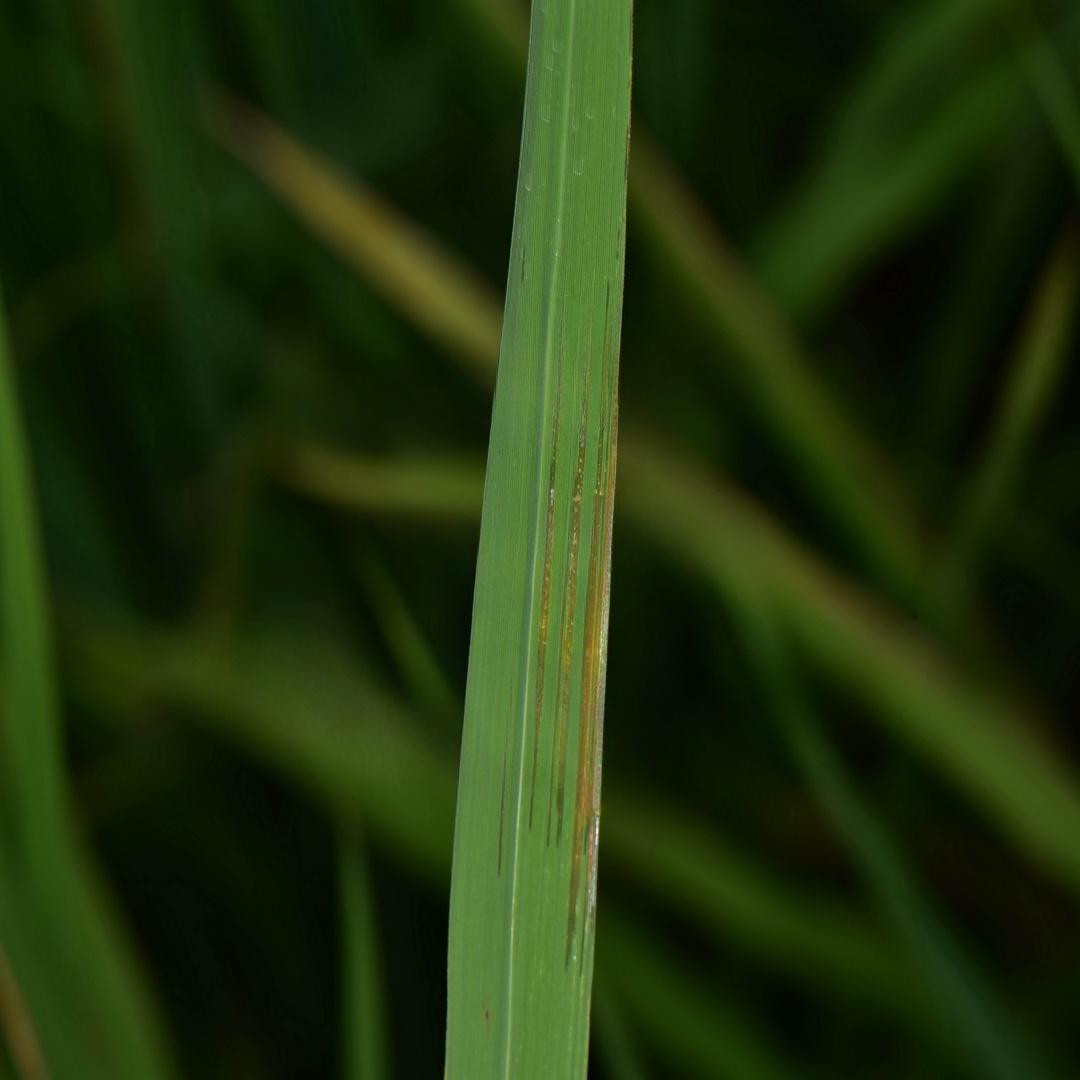BLS: (565, 280, 620, 978), (528, 363, 563, 833), (556, 373, 588, 851), (547, 533, 571, 847), (498, 722, 506, 877)
LEAF: (446, 0, 631, 1079)
